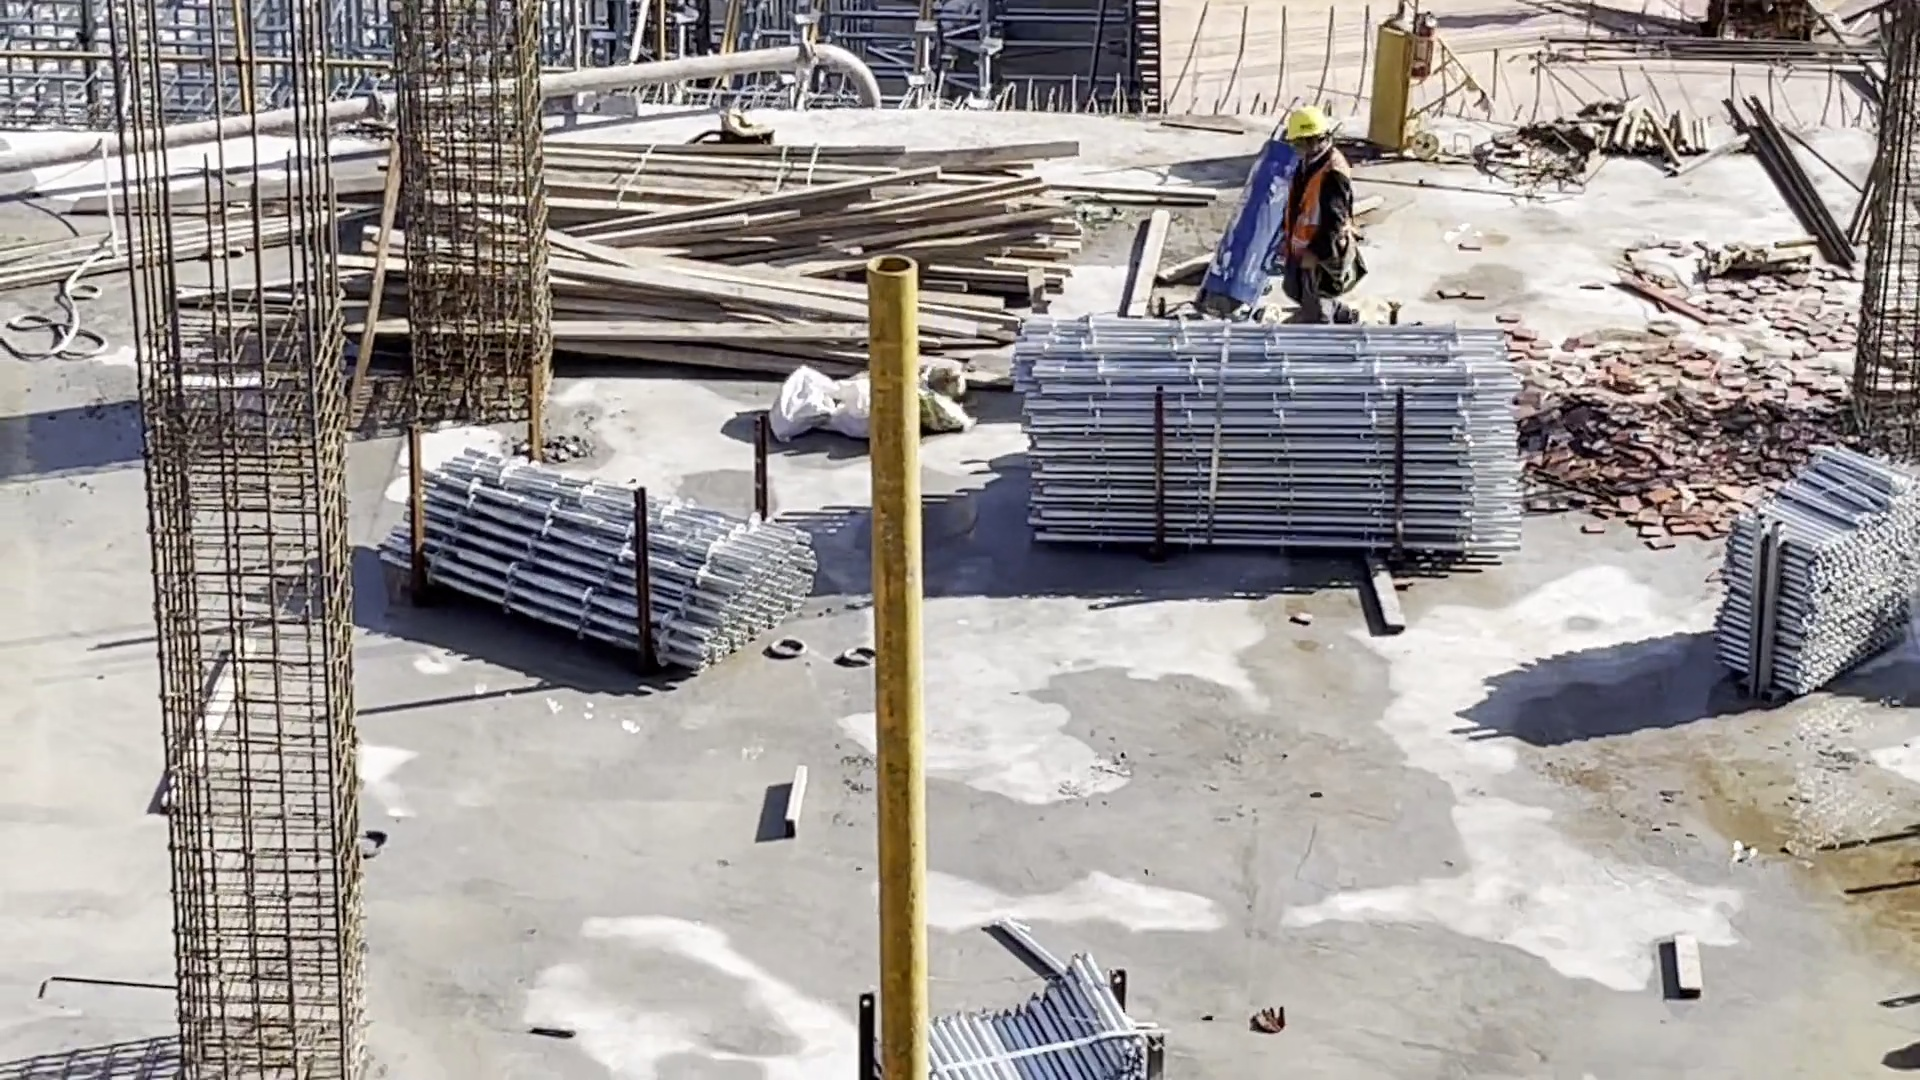board: (1803, 1, 1905, 61)
helmet: (1280, 101, 1326, 136)
person: (1262, 92, 1364, 331)
rebar: (1720, 86, 1863, 283), (1538, 26, 1908, 75)
scaffold: (1008, 316, 1513, 584), (371, 438, 818, 675), (1701, 440, 1920, 692), (862, 952, 1149, 1080)
vest: (1286, 153, 1351, 257)
wood: (555, 122, 1085, 368)
